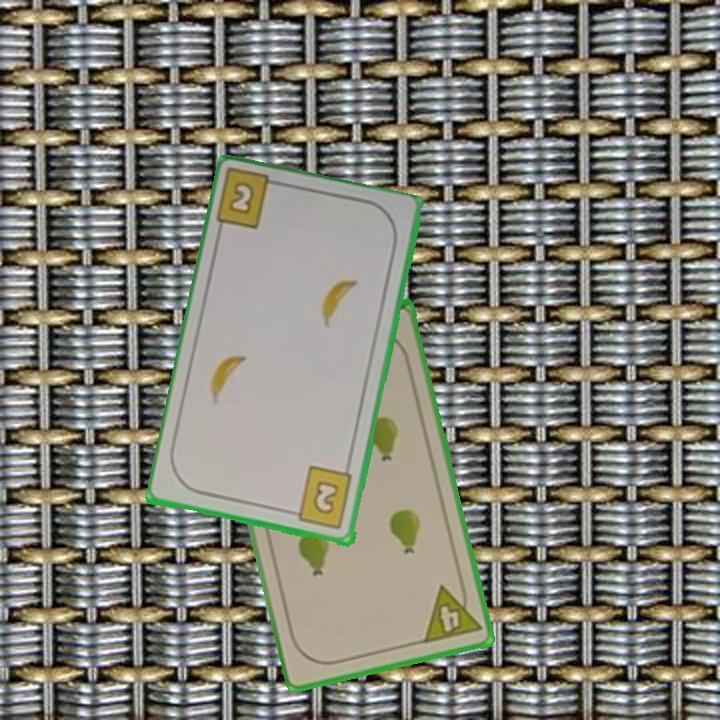2b: (285, 464, 356, 533), (225, 178, 258, 219)
4p: (420, 577, 484, 647)
